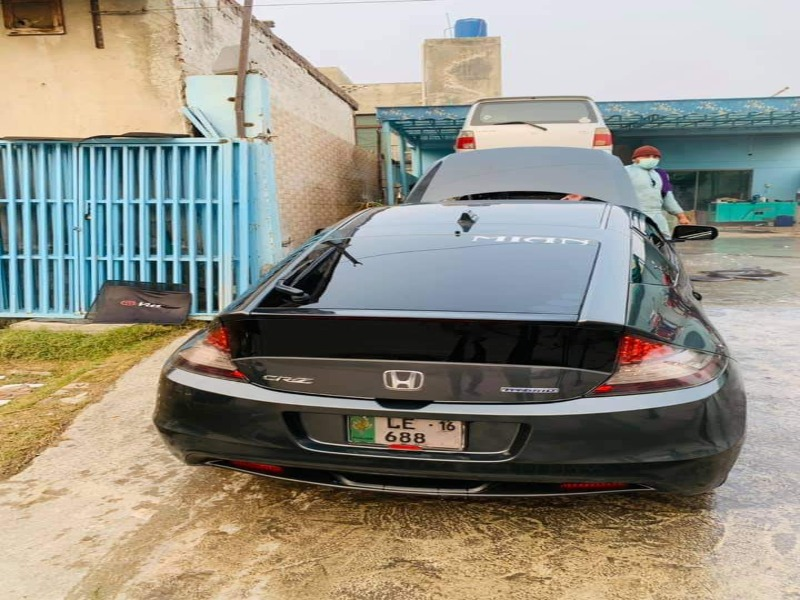License Plate: (340, 410, 473, 454)
